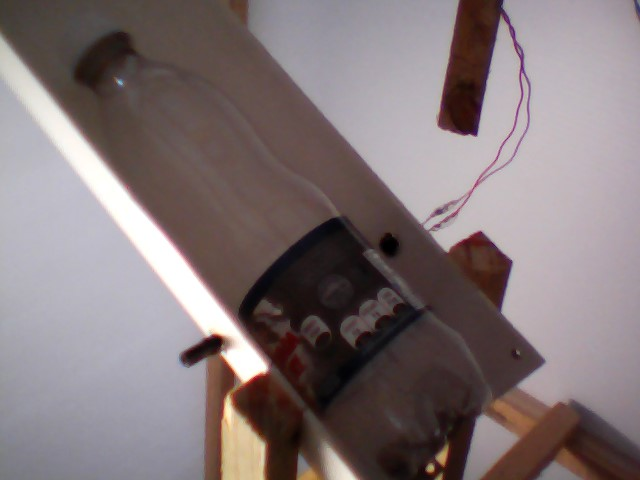plastico: (44, 7, 510, 480)
